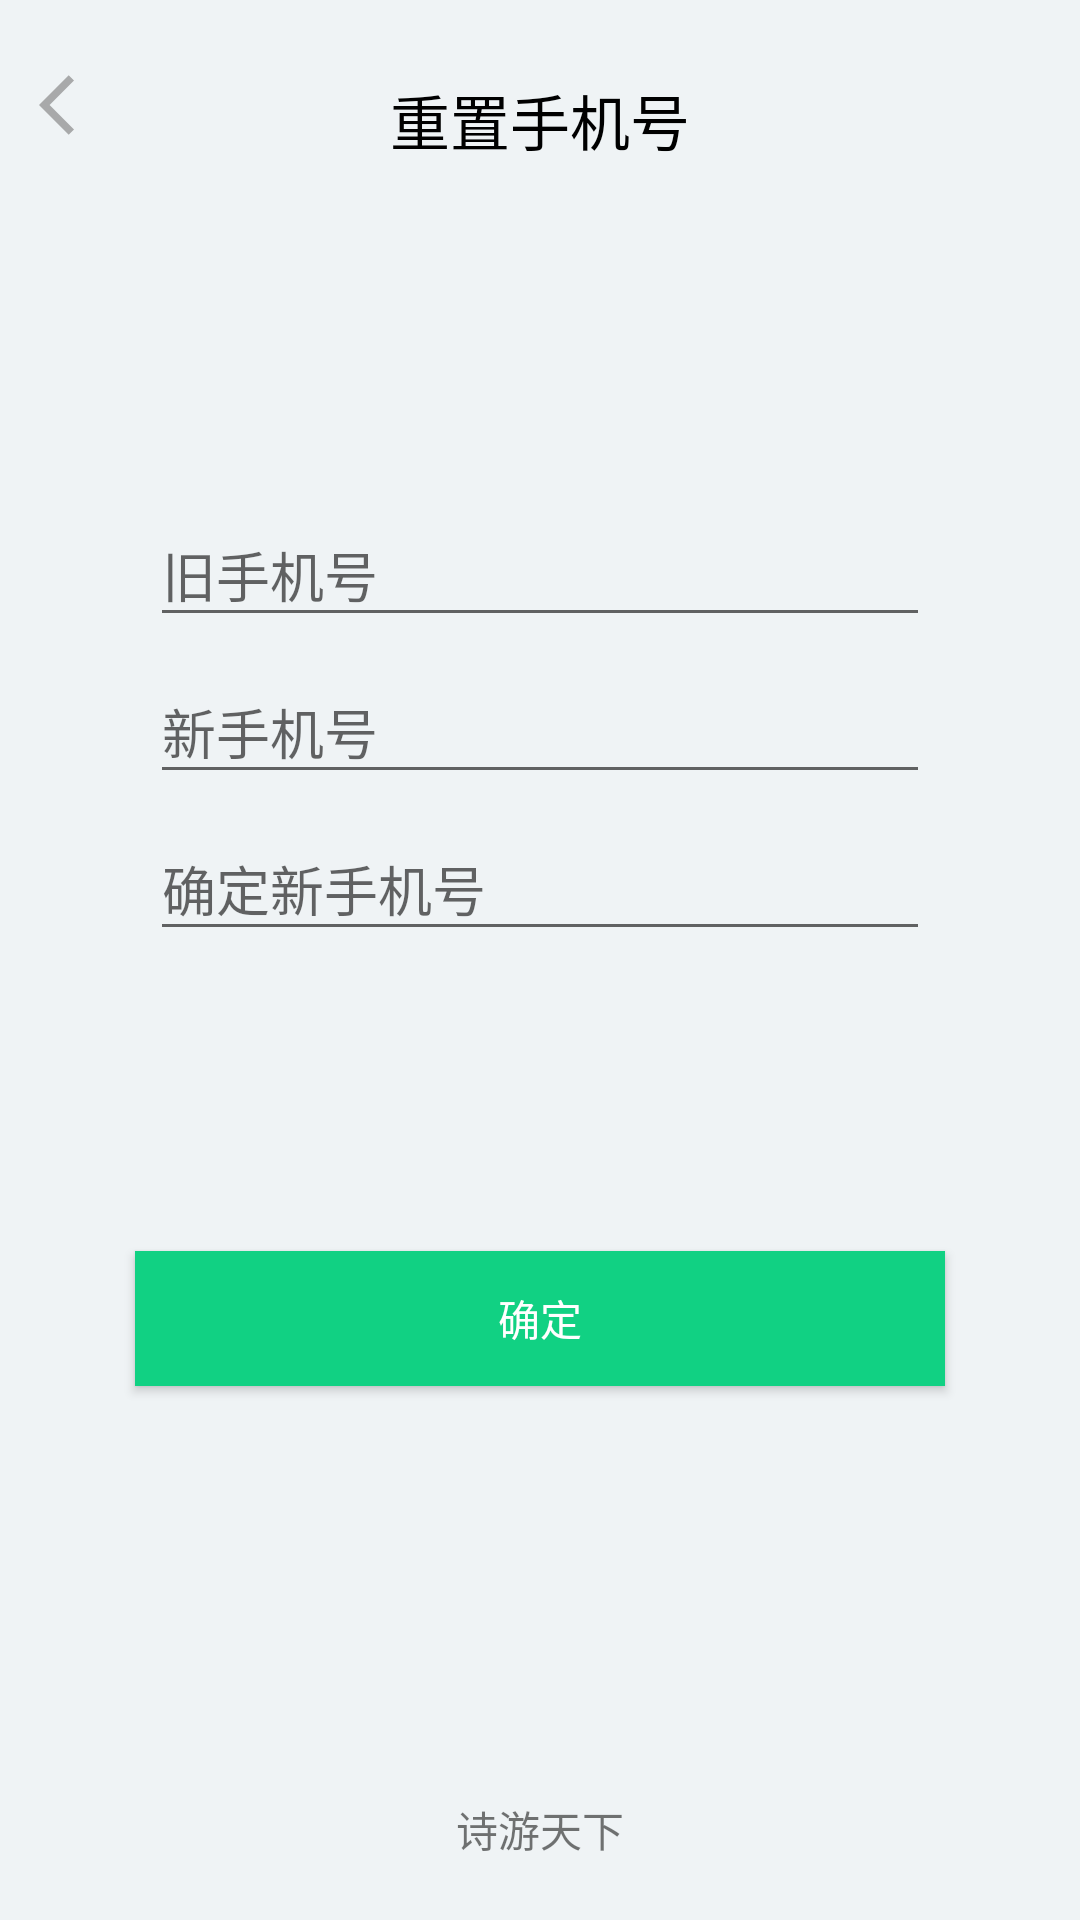

Where to tap for icons on this 1080px×1920px app screen, as point (x, y):
arrow back: point (56, 105)
